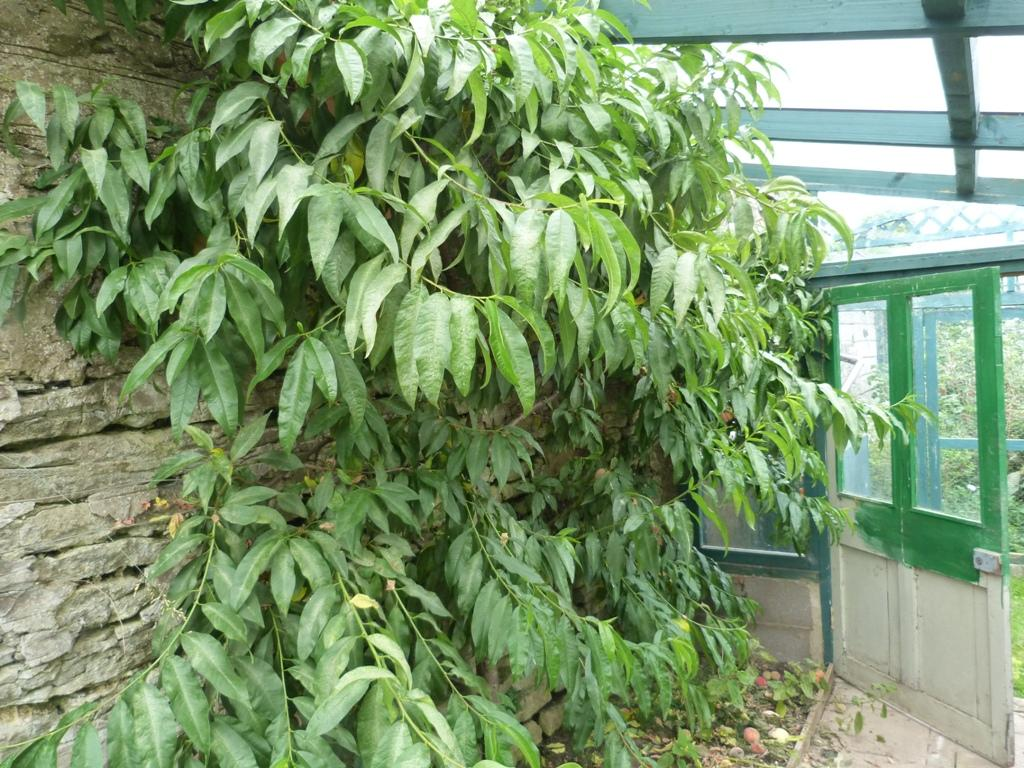Peach leaf: (271, 333, 320, 457), (159, 654, 213, 748), (179, 628, 249, 700), (225, 539, 288, 611), (195, 342, 237, 444), (306, 676, 376, 737), (413, 281, 445, 412), (543, 204, 582, 310), (31, 165, 85, 240), (293, 581, 340, 667), (304, 189, 345, 281), (245, 112, 282, 185), (195, 269, 227, 345), (485, 592, 515, 667)
